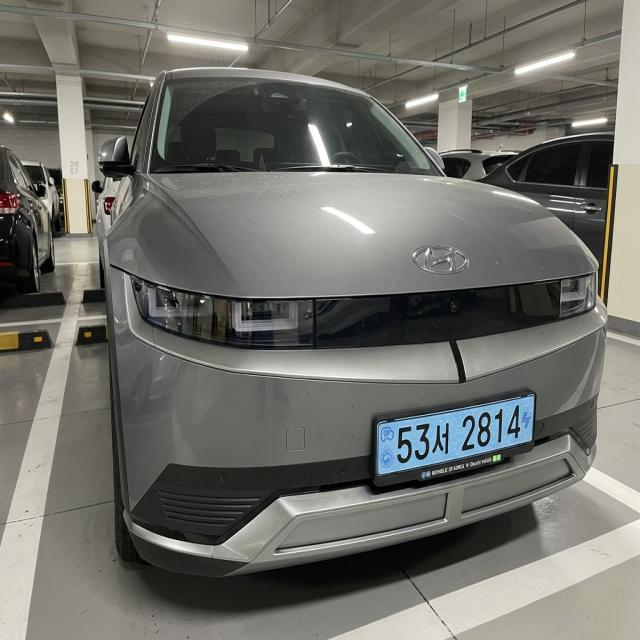car: (361, 377, 546, 501)
carev: (374, 413, 396, 480), (515, 393, 537, 451)
